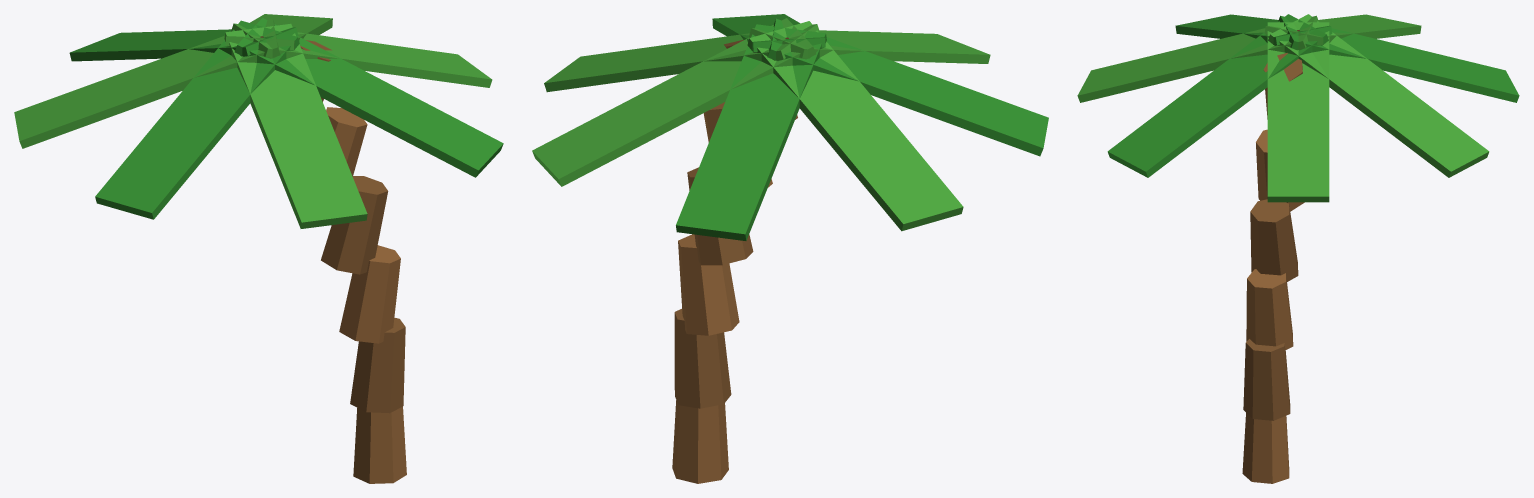
The model's file is palm.glb.
The picture shows the model from 3 angles, left to right: view 1: azimuth 30°, elevation 25°; view 2: azimuth 150°, elevation 25°; view 3: azimuth 270°, elevation 25°; orthographic projection. The views are drawn at different scales.
Visible parts, largest first — view 1: Palm; view 2: Palm; view 3: Palm.
Part boxes in pixels (x1,y1,x2,y2): Palm: (14, 14, 503, 483); Palm: (532, 14, 1048, 483); Palm: (1077, 14, 1519, 483).
Size of the model in its own units: 4.2 by 4.33 by 4.31.
